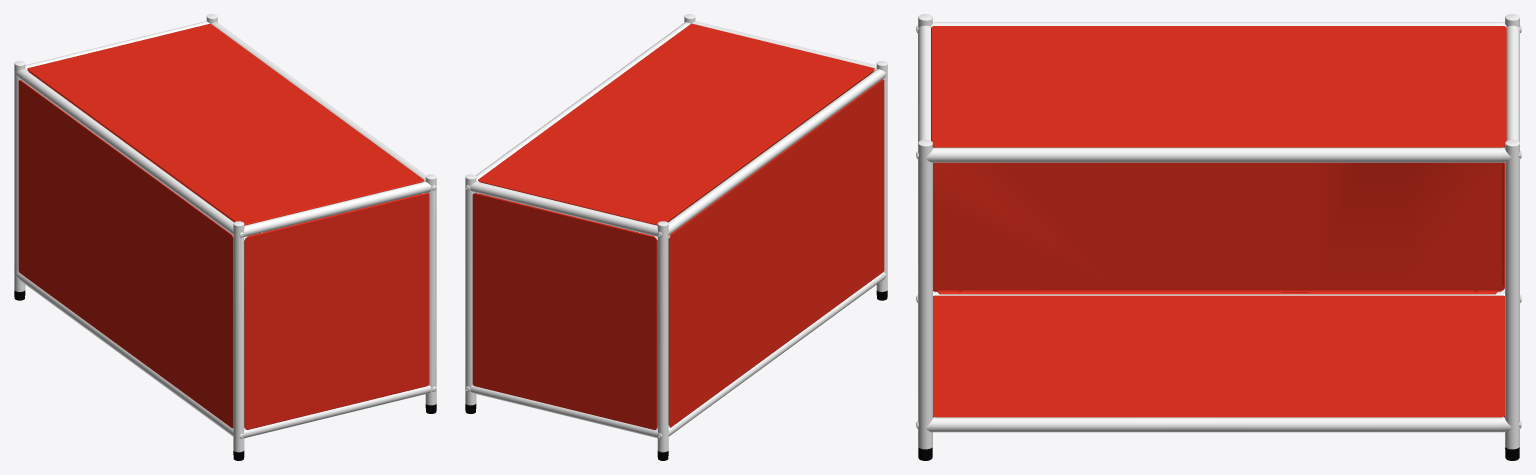
Rendered from 80x40x40-1-3-red_optimized_optimized.glb.
3 renders of one model, left to right at view 1: azimuth 30°, elevation 25°; view 2: azimuth 150°, elevation 25°; view 3: azimuth 270°, elevation 25°, orthographic. The views are drawn at different scales.
Visible parts, largest first — view 1: 直角鐵板-80x40-5 - 零件, new-上塞-1 - 零件; view 2: 直角鐵板-80x40-5 - 零件, new-上塞-1 - 零件; view 3: 直角鐵板-80x40-5 - 零件, new-上塞-1 - 零件.
Part boxes in pixels (x1=…): 直角鐵板-80x40-5 - 零件: x1=18, y1=23, x2=429, y2=429; new-上塞-1 - 零件: x1=14, y1=14, x2=436, y2=452; 直角鐵板-80x40-5 - 零件: x1=472, y1=23, x2=884, y2=429; new-上塞-1 - 零件: x1=465, y1=14, x2=887, y2=452; 直角鐵板-80x40-5 - 零件: x1=931, y1=26, x2=1506, y2=417; new-上塞-1 - 零件: x1=916, y1=14, x2=1521, y2=449.
Size of the model in its own units: 0.3992 by 0.4453 by 0.7732.
